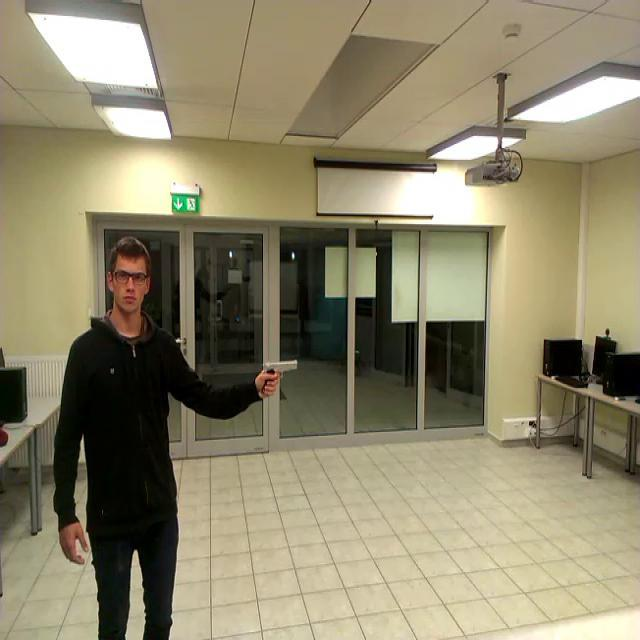Gun: (262, 358, 298, 393)
